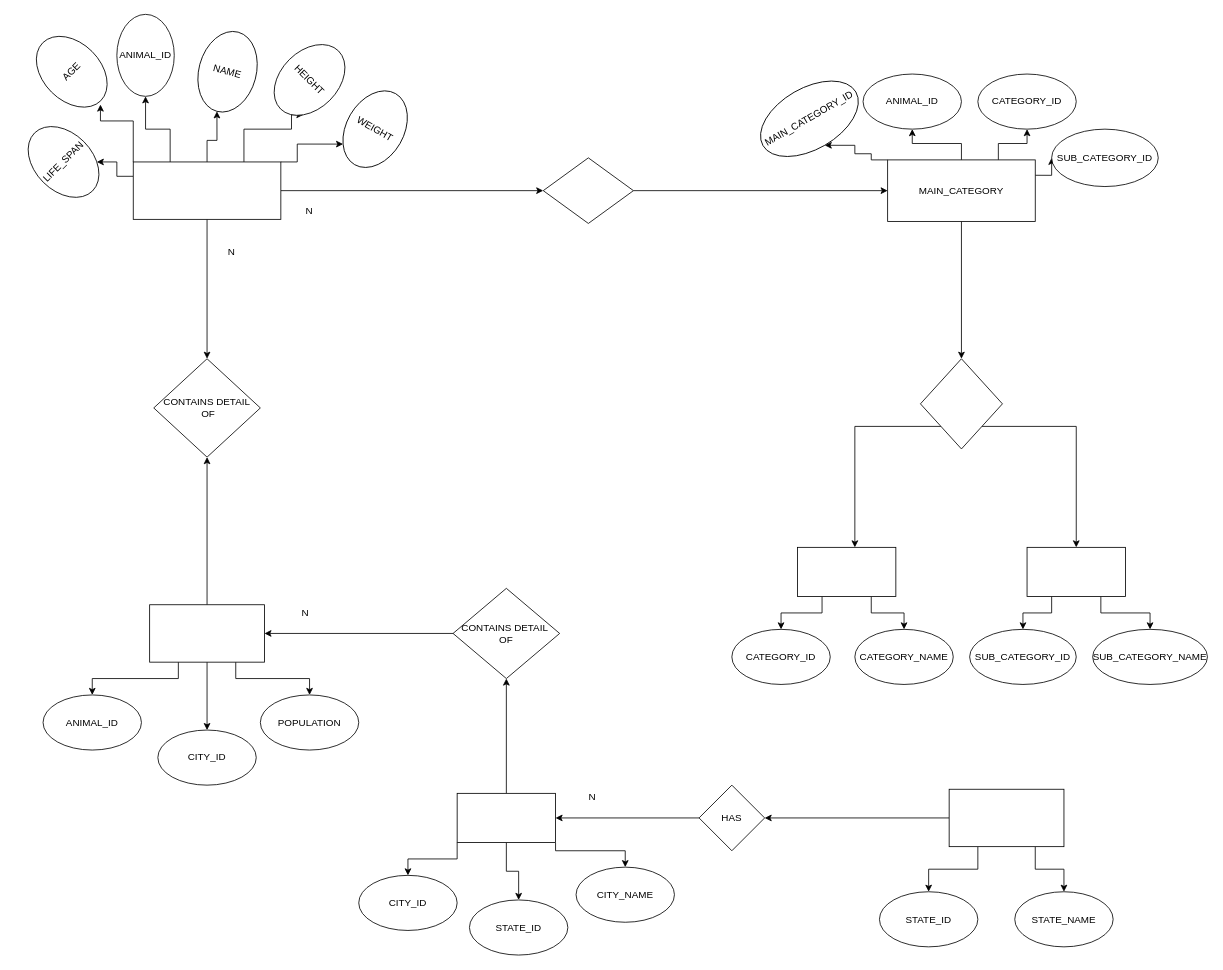
This 1223x970 diagram has some shape labels left out. Each missing label, with the box of its shape:
ANIMAL: (132, 161, 281, 219)
ANIMAL_DETAILS: (149, 604, 264, 662)
CATEGORY: (797, 547, 896, 597)
CITY: (456, 793, 556, 843)
DIVIDED: (542, 157, 633, 223)
HAVE: (920, 358, 1002, 449)
STATE: (948, 788, 1064, 847)
SUB_CATEGORY: (1026, 547, 1125, 597)
